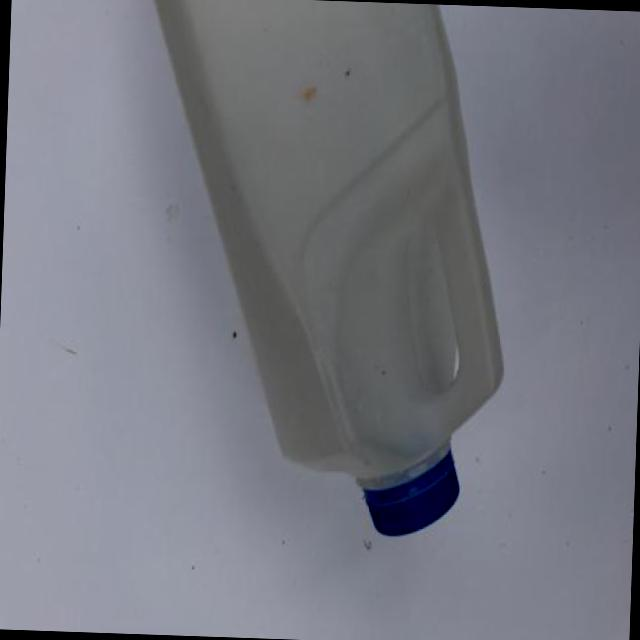Recycle: (132, 0, 520, 543)
